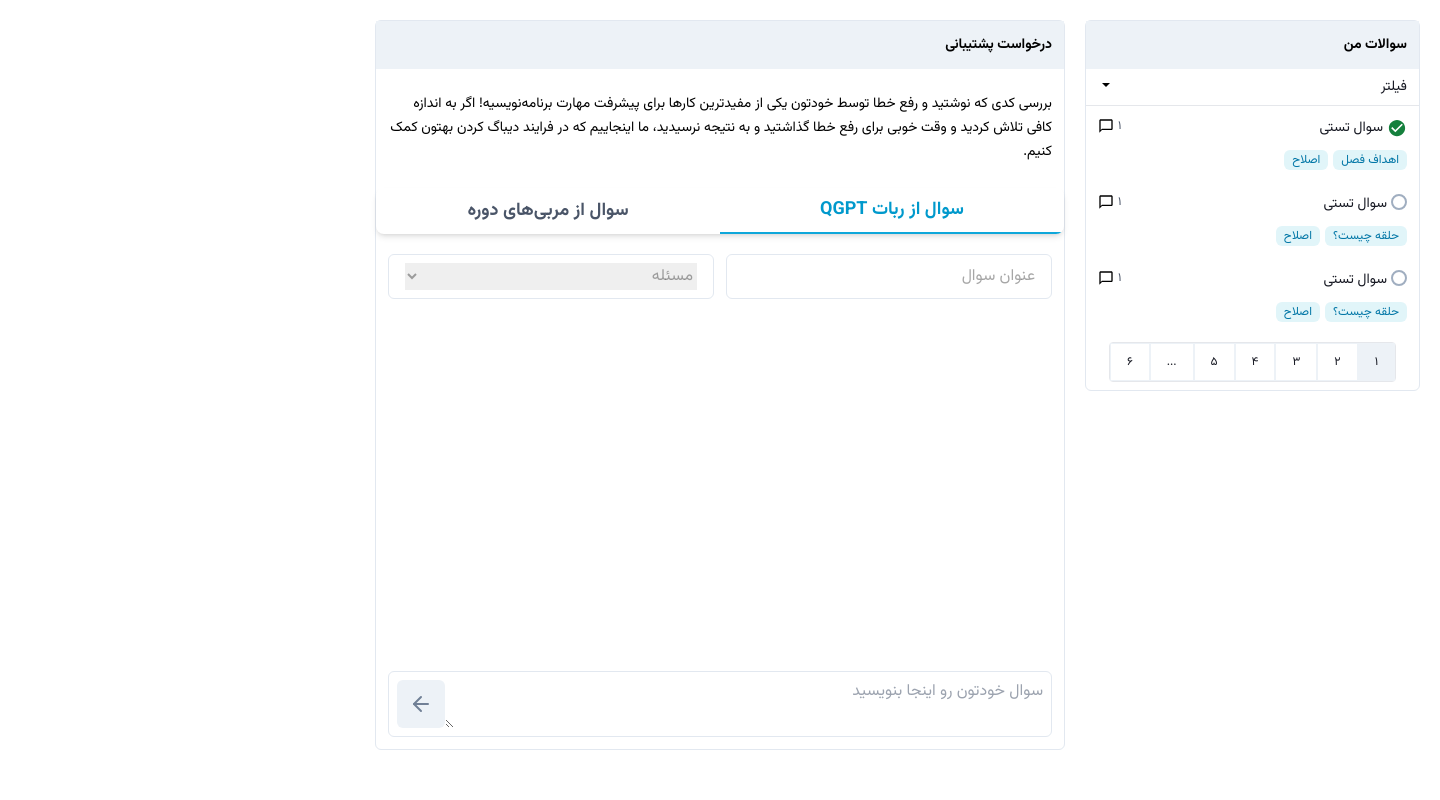
Test case: Ask to mentor › change the tab
The width and height of the screenshot is (1440, 800).
Click the link "سوال از مربی‌های دوره" at point(548, 211), box left=467, top=197, right=628, bottom=225
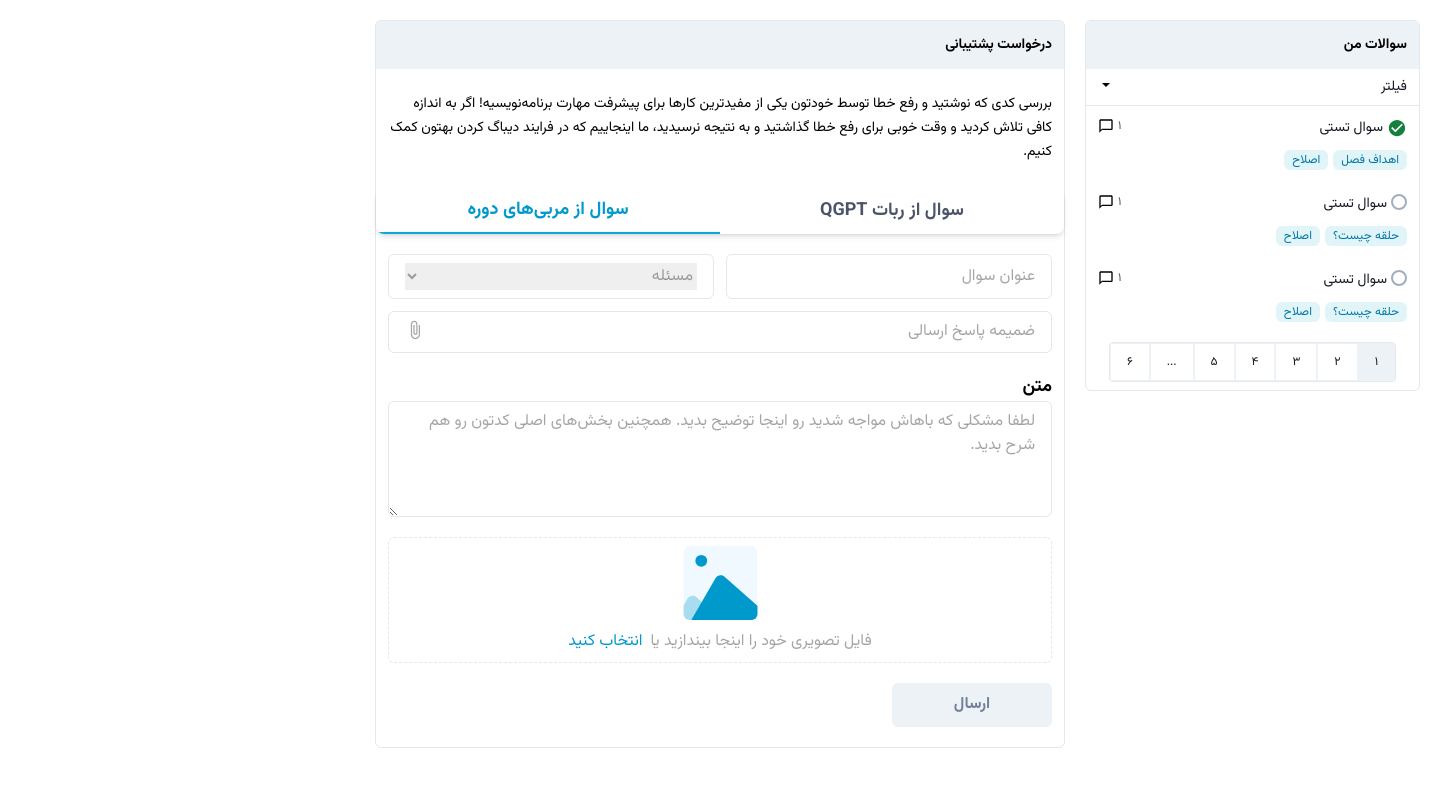
Result: the file field "ارسال" is shown at left=388, top=311, right=1052, bottom=353
